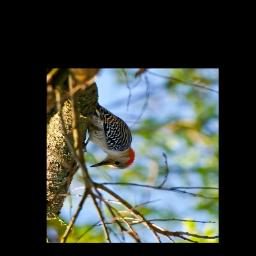Woodpecker: (77, 97, 148, 173)
